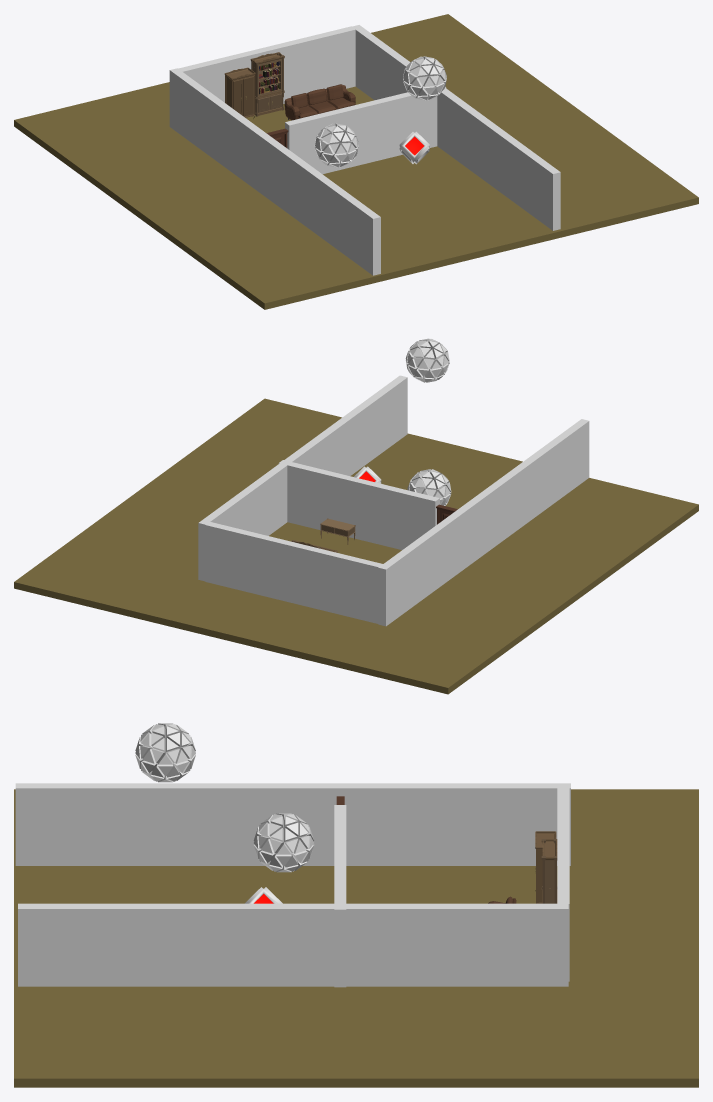
The model's file is World.glb.
The picture shows the model from 3 angles, top to bottom: view 1: azimuth 30°, elevation 25°; view 2: azimuth 150°, elevation 25°; view 3: azimuth 270°, elevation 25°; orthographic projection. The views are drawn at different scales.
Visible parts, largest first — view 1: Plane, Wall, Wall.001, Wall.003, Wall.002, Icosphere (×2), Sofa2.001, BookCase_Single.001, Cube, Closet.001; view 2: Plane, Wall, Wall.002, Wall.001, Wall.003, Icosphere (×2); view 3: Plane, Wall.001, Wall, Icosphere (×2), Wall.003, Wall.002, BookCase_Single.001, Closet.001.
Part boxes in pixels (box(x1,y1,x2,y2)): Plane: box(14, 14, 698, 309); Wall: box(169, 68, 380, 275); Wall.001: box(352, 25, 560, 230); Wall.003: box(285, 87, 446, 174); Wall.002: box(178, 26, 355, 103); Icosphere (×2): box(314, 56, 446, 167); Sofa2.001: box(284, 84, 355, 120); BookCase_Single.001: box(250, 52, 284, 116); Cube: box(399, 131, 429, 164); Closet.001: box(224, 67, 255, 118); Plane: box(14, 398, 698, 694); Wall: box(378, 419, 589, 626); Wall.002: box(205, 522, 382, 623); Wall.001: box(198, 375, 407, 581); Wall.003: box(278, 460, 439, 549); Icosphere (×2): box(405, 338, 451, 505); Plane: box(14, 789, 698, 1087); Wall.001: box(18, 903, 568, 986); Wall: box(15, 783, 570, 865); Icosphere (×2): box(135, 723, 313, 872); Wall.003: box(334, 805, 346, 987); Wall.002: box(557, 788, 569, 981); BookCase_Single.001: box(541, 839, 557, 903); Closet.001: box(535, 831, 556, 903).
Bounding box in the file's own units: 27.97 × 9.75 × 27.97.
